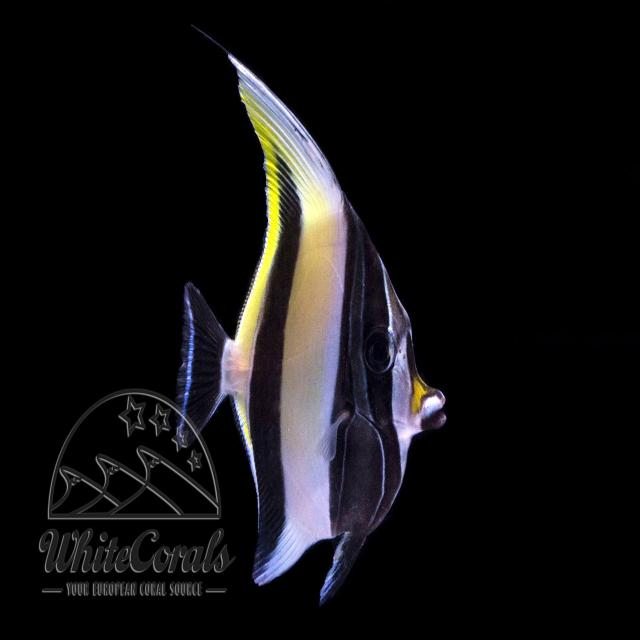MorishIdol: (172, 23, 448, 607)
